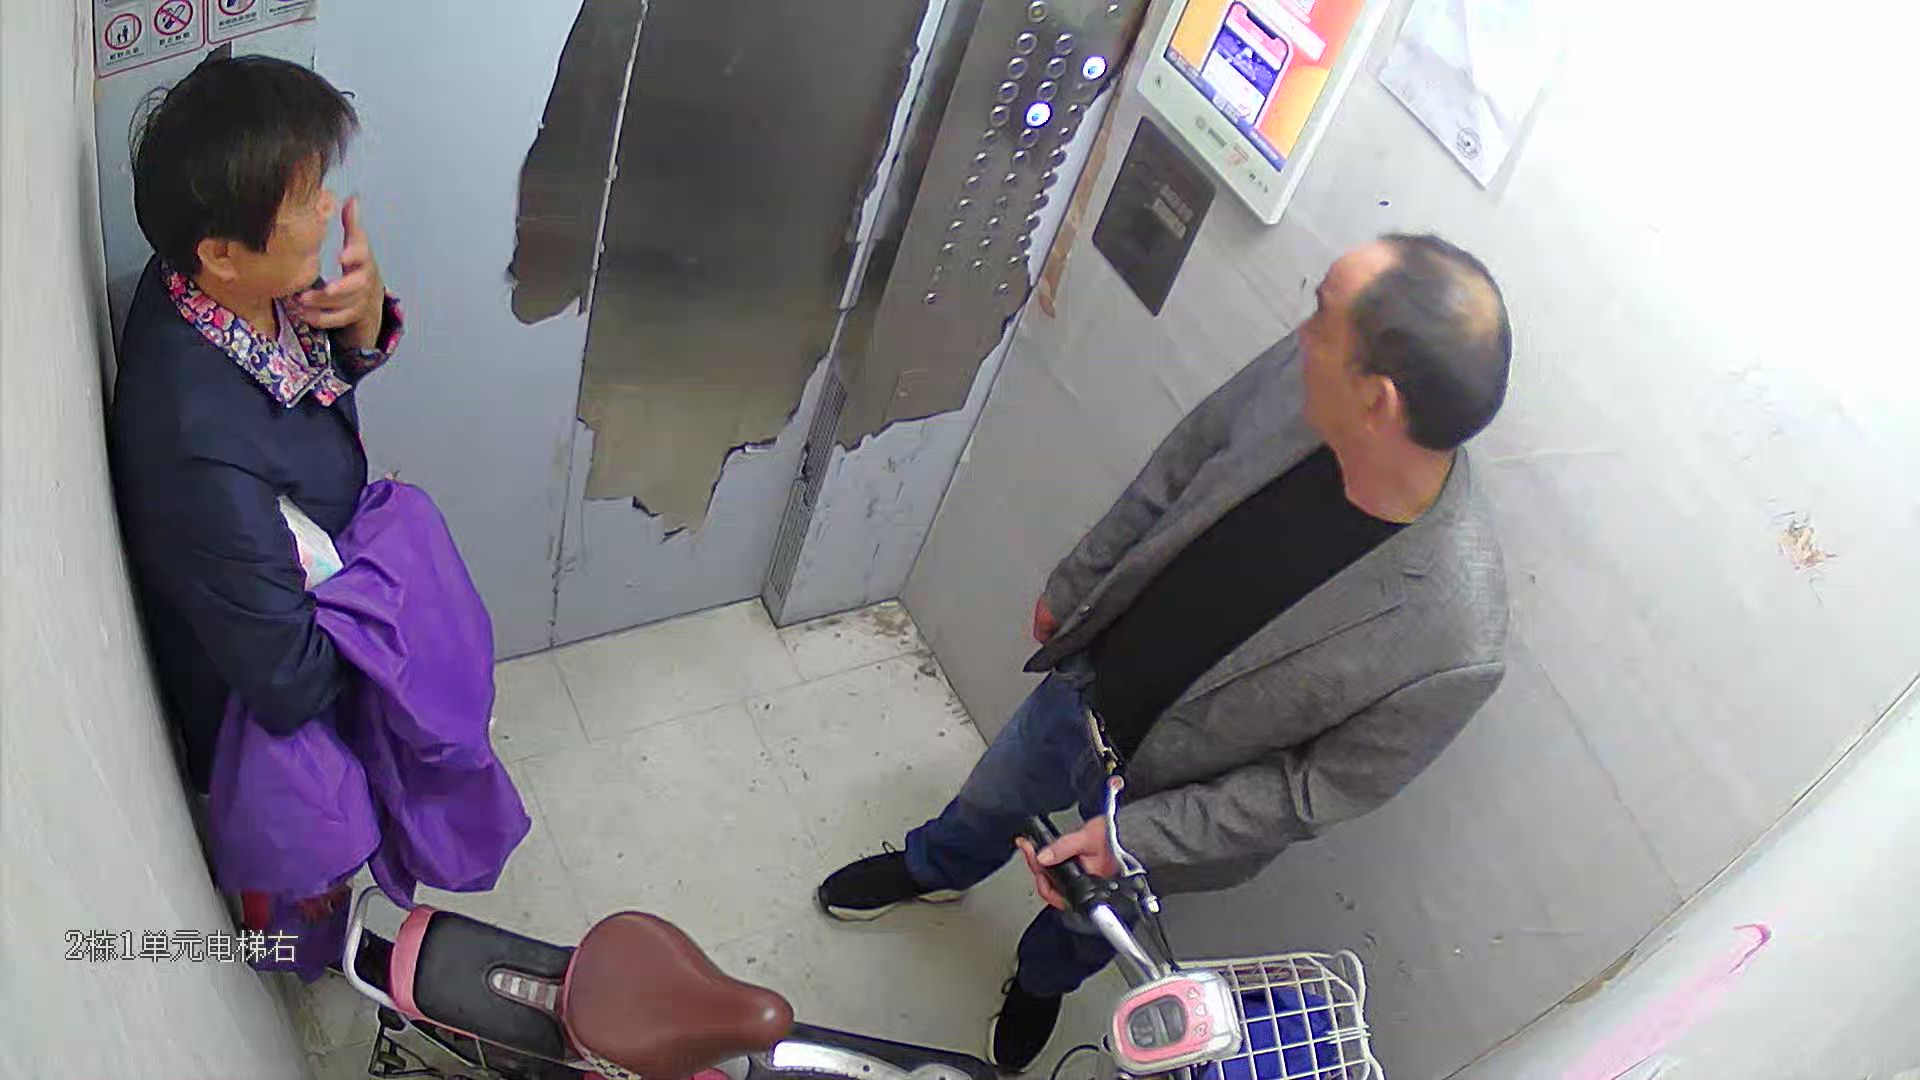Electric-bicycle: (349, 709, 1373, 1080)
